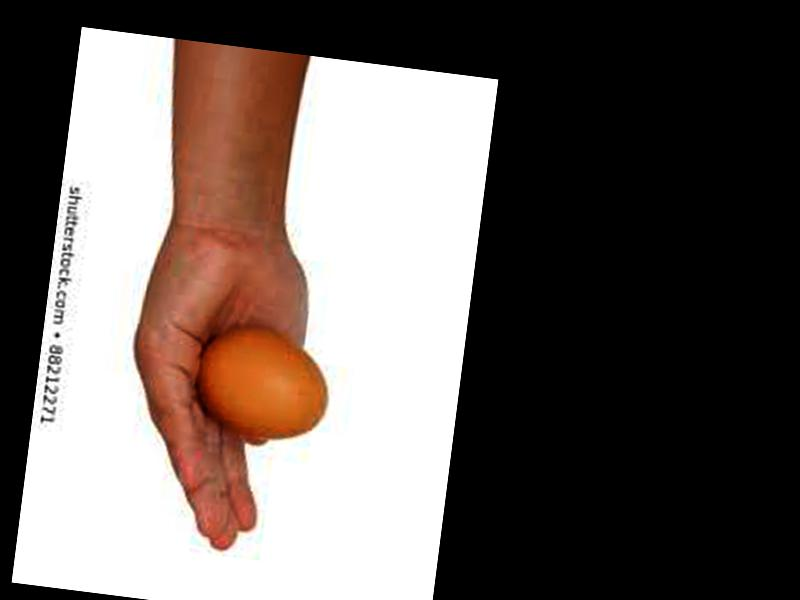Eggs: (188, 321, 336, 445)
